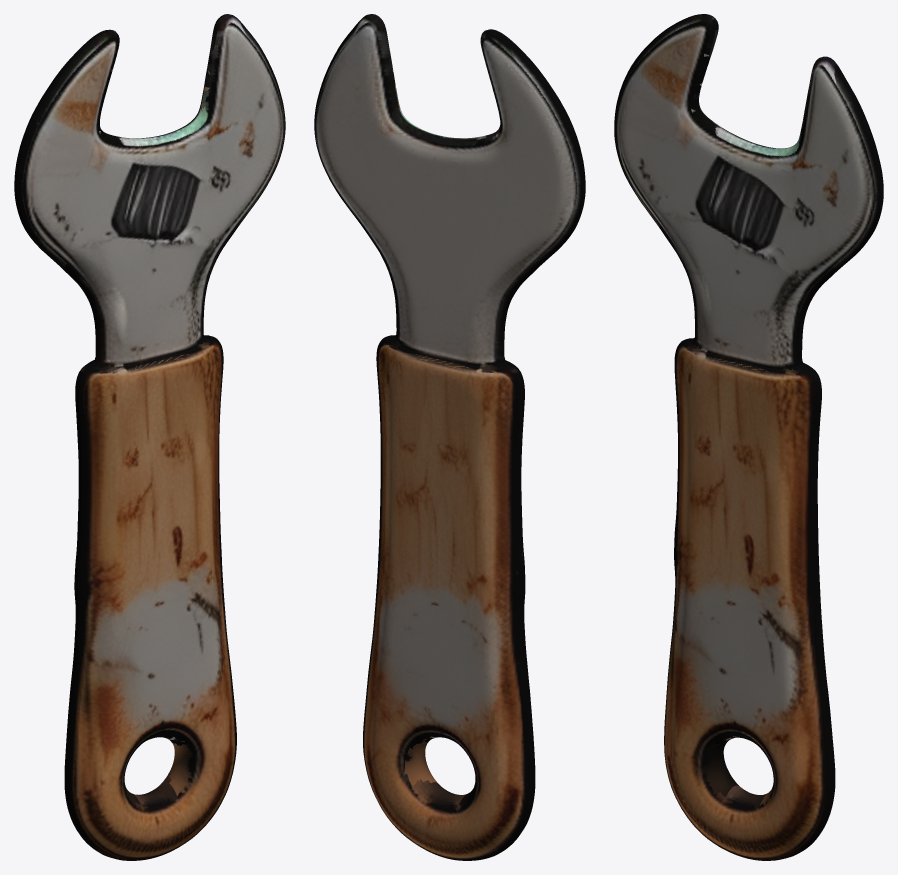
The model's file is catalog-field-tool-2-2.glb.
3 views of the same model, side by side, from view 1: azimuth 30°, elevation 25°; view 2: azimuth 150°, elevation 25°; view 3: azimuth 330°, elevation 25° (orthographic).
Visible parts, largest first — view 1: tmpragorcd2.ply; view 2: tmpragorcd2.ply; view 3: tmpragorcd2.ply.
Boxes of the visible parts, x1=… form: tmpragorcd2.ply: x1=14, y1=14, x2=285, y2=860; tmpragorcd2.ply: x1=314, y1=14, x2=585, y2=860; tmpragorcd2.ply: x1=614, y1=14, x2=883, y2=860.
Bounding box in the file's own units: 0.6611 × 1.96 × 0.1168.
Materials: 1 (1 with a texture image).
